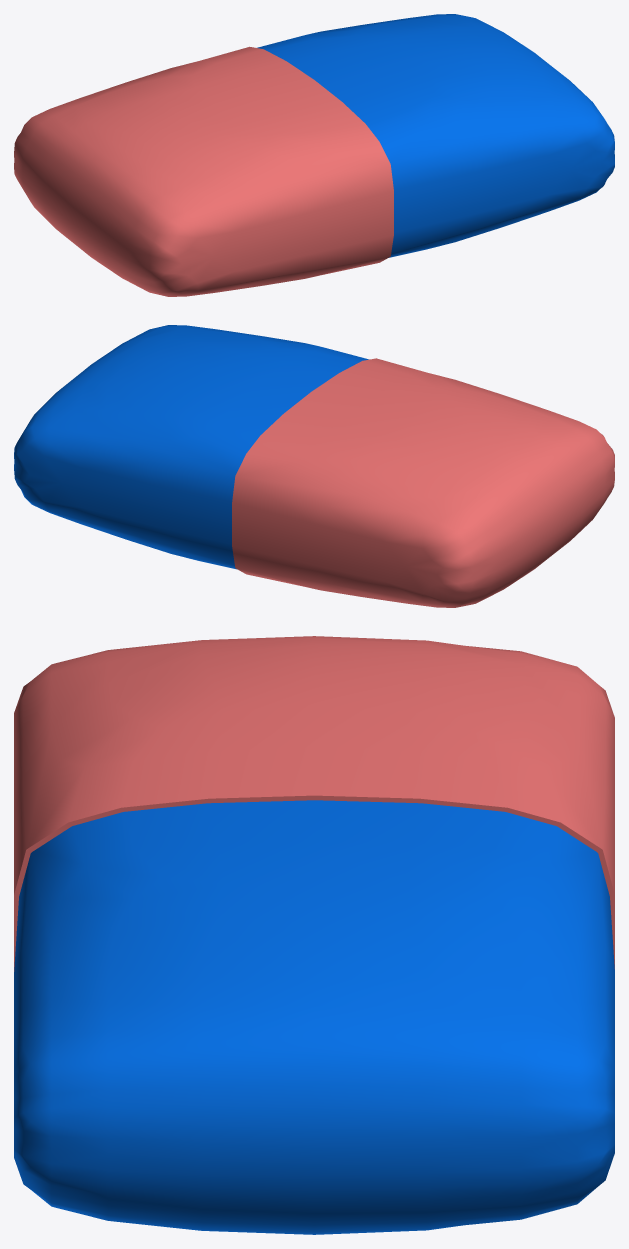
The model's file is Gomme_Geo.fbx.
3 views of the same model, one above another, from view 1: azimuth 30°, elevation 25°; view 2: azimuth 150°, elevation 25°; view 3: azimuth 270°, elevation 25° (orthographic). The views are drawn at different scales.
Parts seen in each view (by area): view 1: GommeRose, GommeBleue; view 2: GommeRose, GommeBleue; view 3: GommeBleue, GommeRose.
Part boxes in pixels (x1=…): GommeRose: x1=14, y1=46, x2=393, y2=296; GommeBleue: x1=257, y1=14, x2=614, y2=257; GommeRose: x1=232, y1=358, x2=614, y2=607; GommeBleue: x1=14, y1=325, x2=369, y2=569; GommeBleue: x1=14, y1=800, x2=614, y2=1234; GommeRose: x1=14, y1=636, x2=614, y2=971.
Bounding box in the file's own units: 1.76 × 0.5192 × 1.
